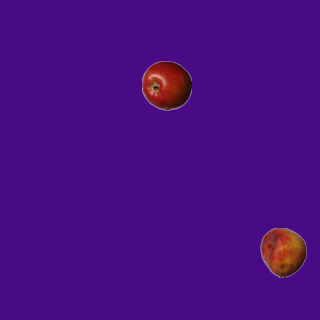Apple Braeburn: (141, 60, 191, 110)
Peach: (258, 227, 308, 277)
